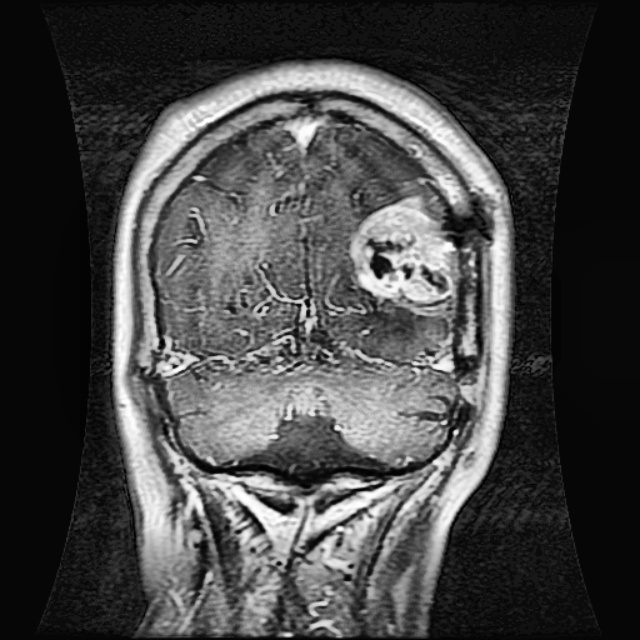Meningioma: (349, 192, 459, 319)
